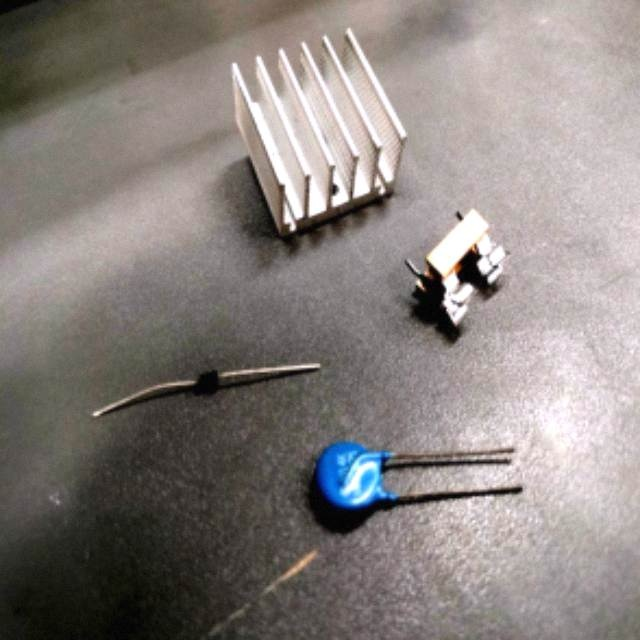capacitor: (308, 440, 408, 533)
